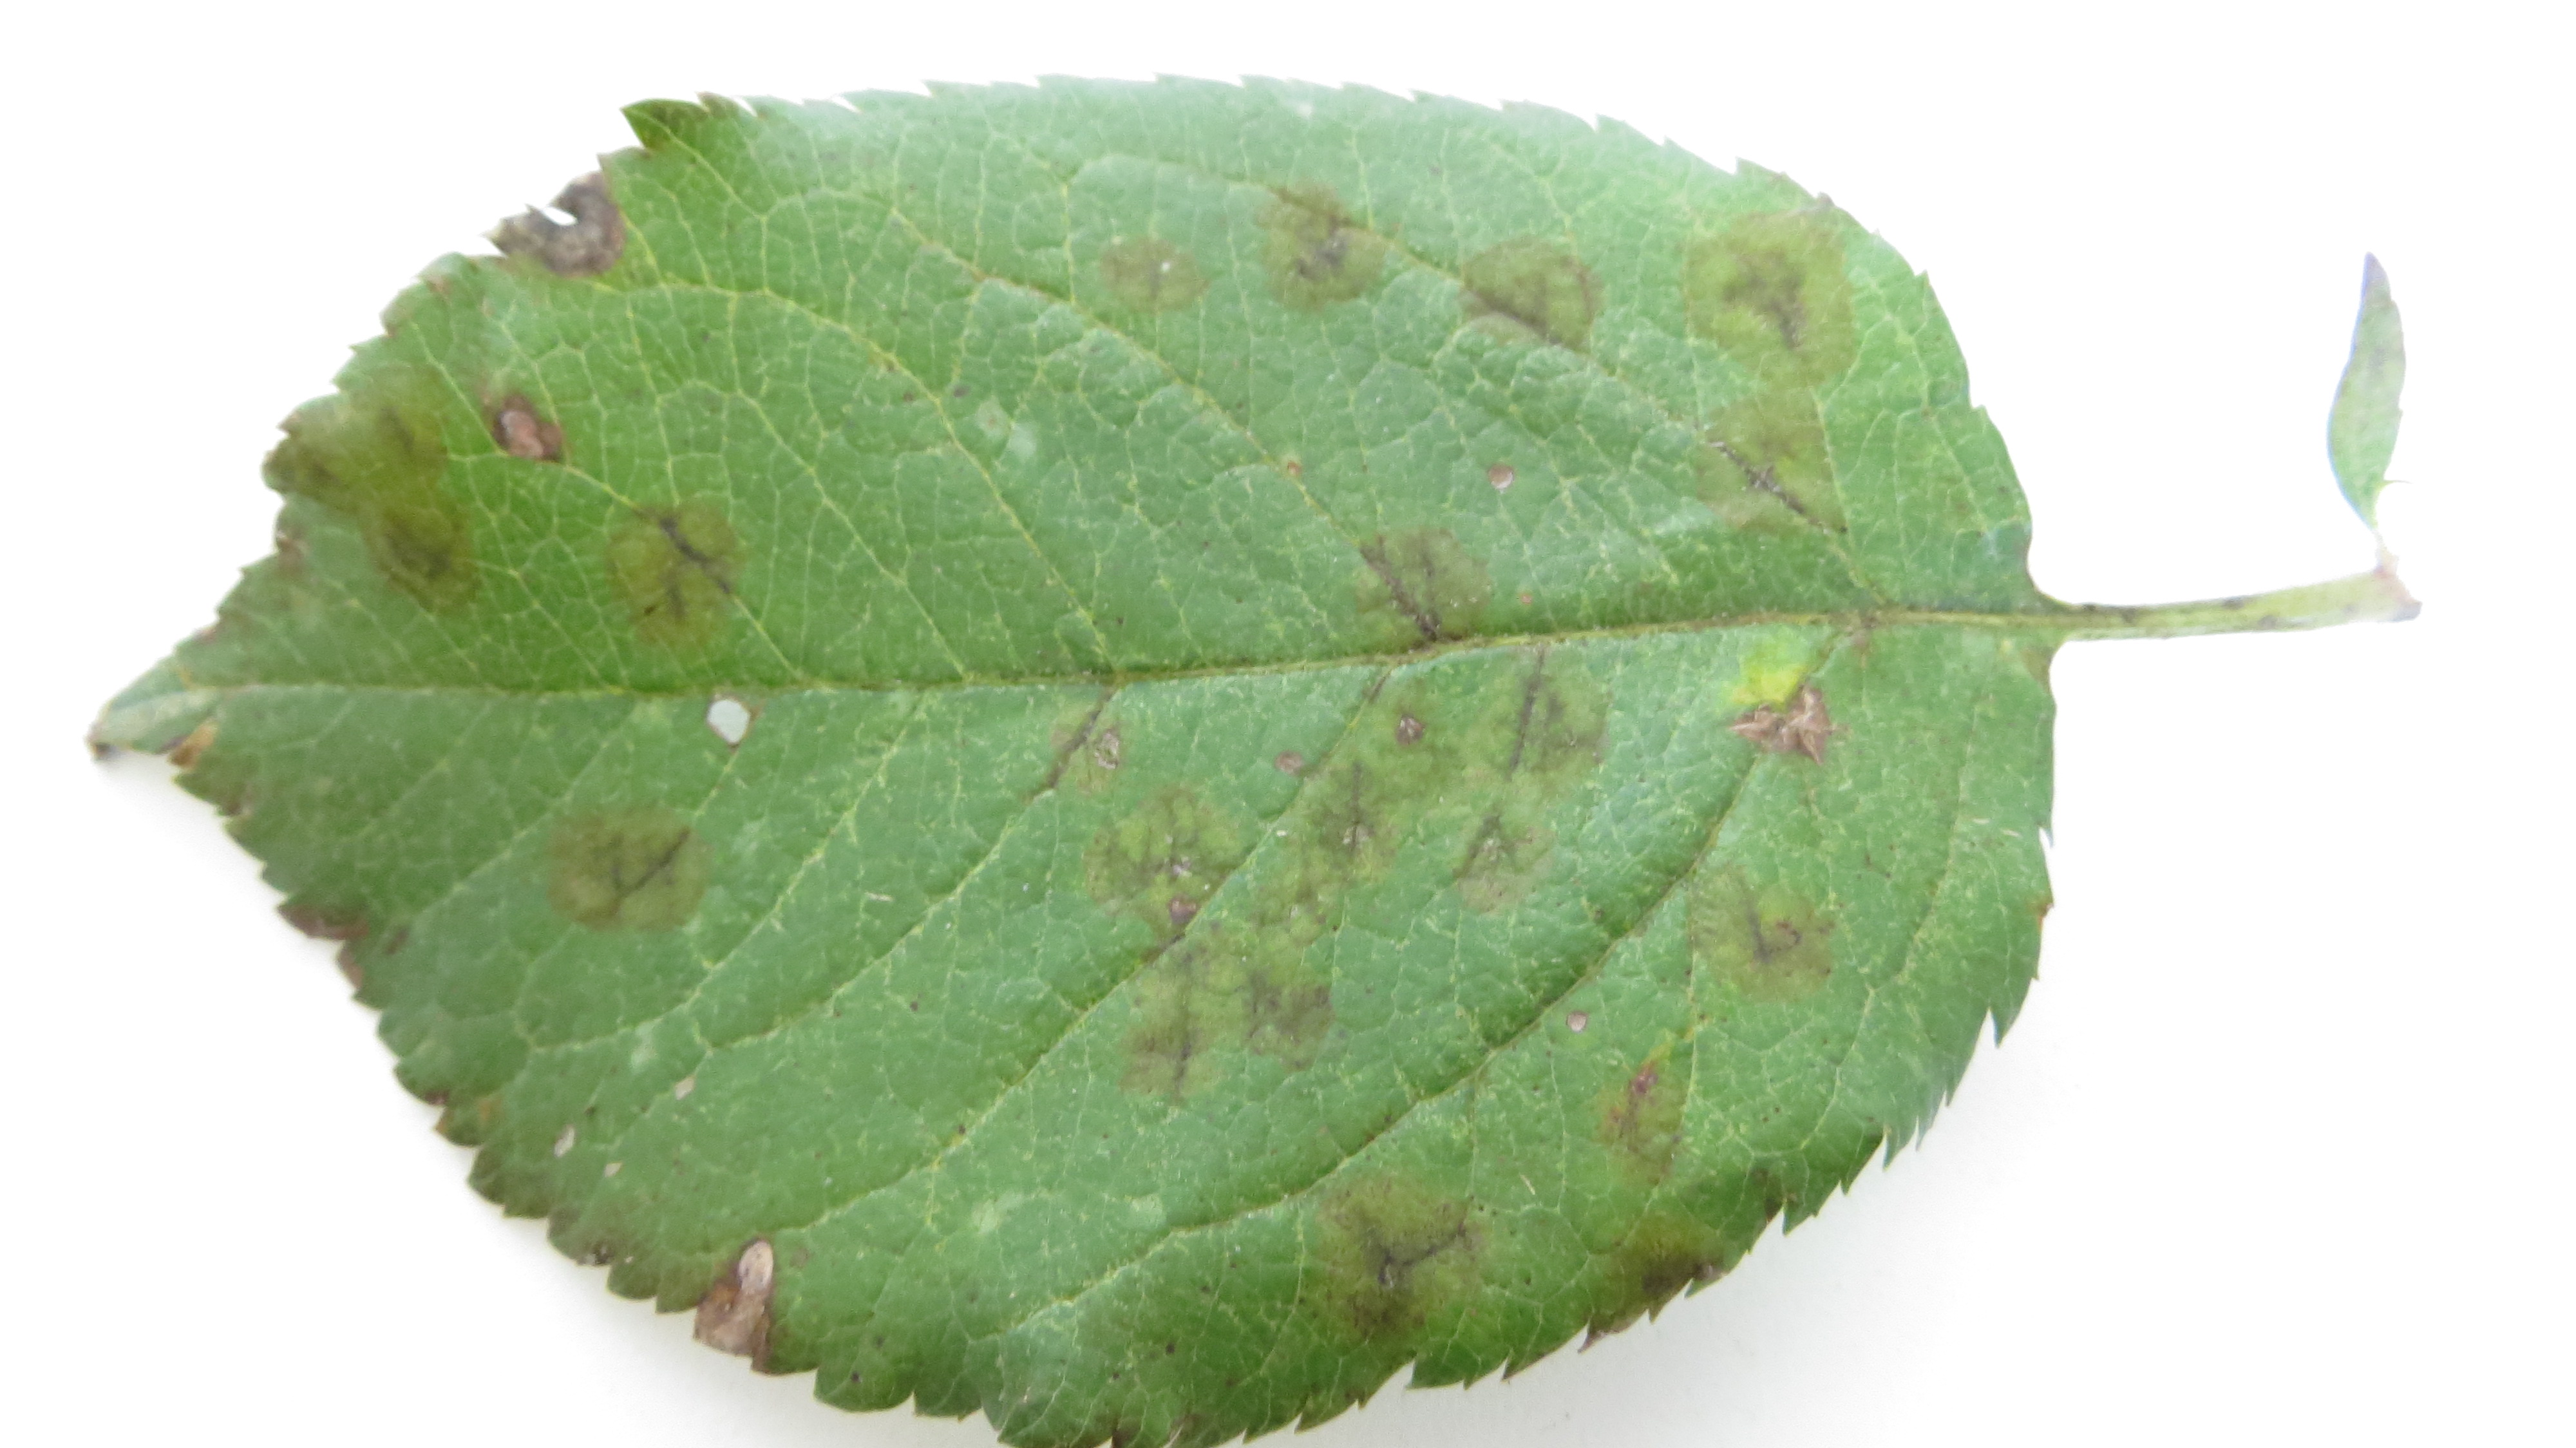sarna: (1672, 195, 1867, 379), (1311, 1175, 1484, 1356), (1686, 393, 1856, 540), (1081, 789, 1238, 940), (1442, 225, 1603, 370), (1470, 646, 1626, 789), (605, 494, 750, 646), (548, 795, 708, 929), (1350, 515, 1511, 648), (1237, 181, 1387, 320), (1100, 956, 1224, 1119), (248, 379, 373, 531), (485, 175, 635, 296), (1695, 867, 1836, 995), (1583, 1048, 1698, 1191), (1361, 662, 1488, 786), (361, 494, 488, 616), (1573, 1213, 1718, 1319), (1219, 945, 1341, 1062), (1725, 653, 1842, 774), (1433, 791, 1548, 908), (1090, 221, 1221, 320), (692, 1225, 782, 1367), (1292, 751, 1399, 866), (460, 379, 579, 478), (1035, 689, 1143, 797), (1249, 839, 1343, 949), (361, 388, 453, 499), (285, 889, 387, 982), (626, 94, 757, 165), (156, 701, 246, 795), (1129, 1301, 1205, 1391), (216, 779, 265, 841)
